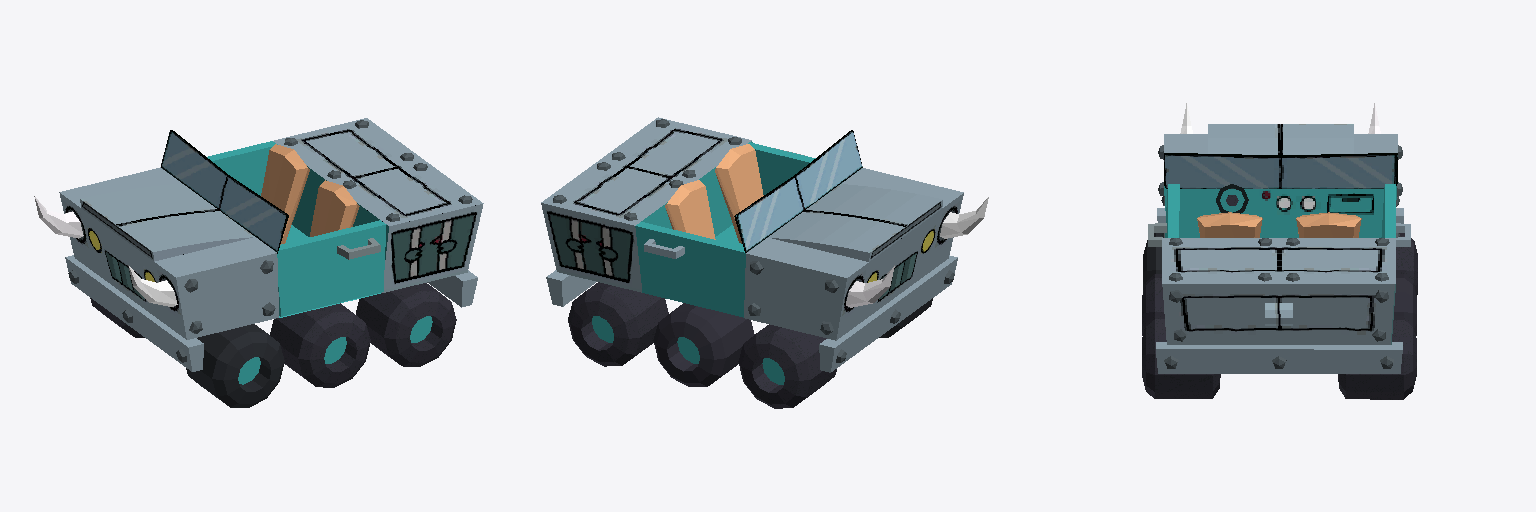
3 renders of one model, left to right at view 1: azimuth 30°, elevation 25°; view 2: azimuth 150°, elevation 25°; view 3: azimuth 270°, elevation 25°, orthographic.
Visible parts, largest first — view 1: mesh0000; view 2: mesh0000; view 3: mesh0000.
Boxes of the visible parts, <box> form: mesh0000: <box>34,118,483,407</box>; mesh0000: <box>541,117,988,408</box>; mesh0000: <box>1142,103,1417,399</box>.
Bounding box in the file's own units: 35.32 × 17.4 × 24.16.
Materials: 1 (1 with a texture image).